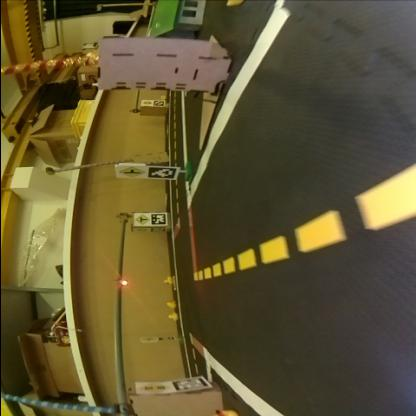Duckie: (211, 410, 237, 415), (166, 313, 176, 321), (162, 278, 170, 284), (166, 302, 174, 308)
Intersection sign: (117, 167, 144, 178), (132, 215, 146, 226)
QR code: (176, 377, 210, 393), (146, 170, 176, 178), (149, 214, 165, 225), (152, 101, 162, 107)
Signal sign: (136, 382, 169, 395)
Traffic light: (118, 280, 126, 286)
